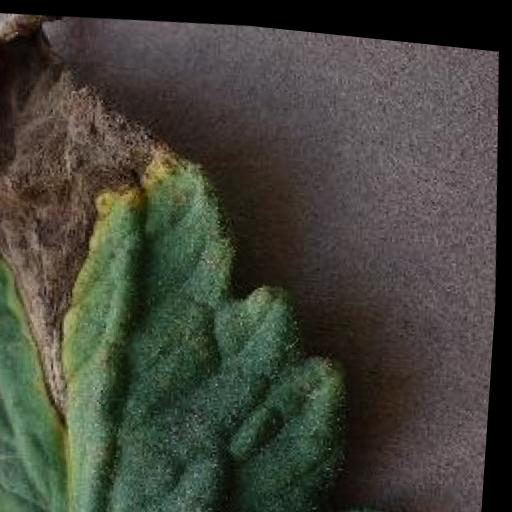Early Blight: (0, 0, 443, 512)
